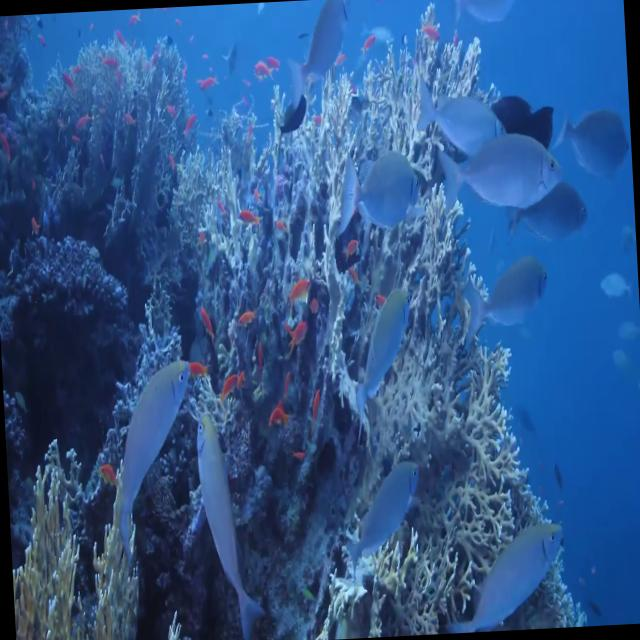fish: (108, 360, 199, 576), (195, 405, 258, 631), (448, 524, 567, 634), (438, 130, 564, 217), (348, 286, 422, 426), (342, 458, 426, 576), (459, 255, 553, 344), (419, 76, 513, 158), (289, 0, 355, 116), (338, 150, 421, 232), (506, 182, 592, 248), (559, 110, 630, 180), (488, 96, 556, 158)
